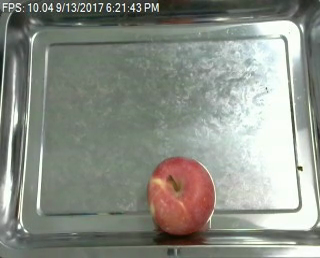Apple: (146, 154, 215, 238)
